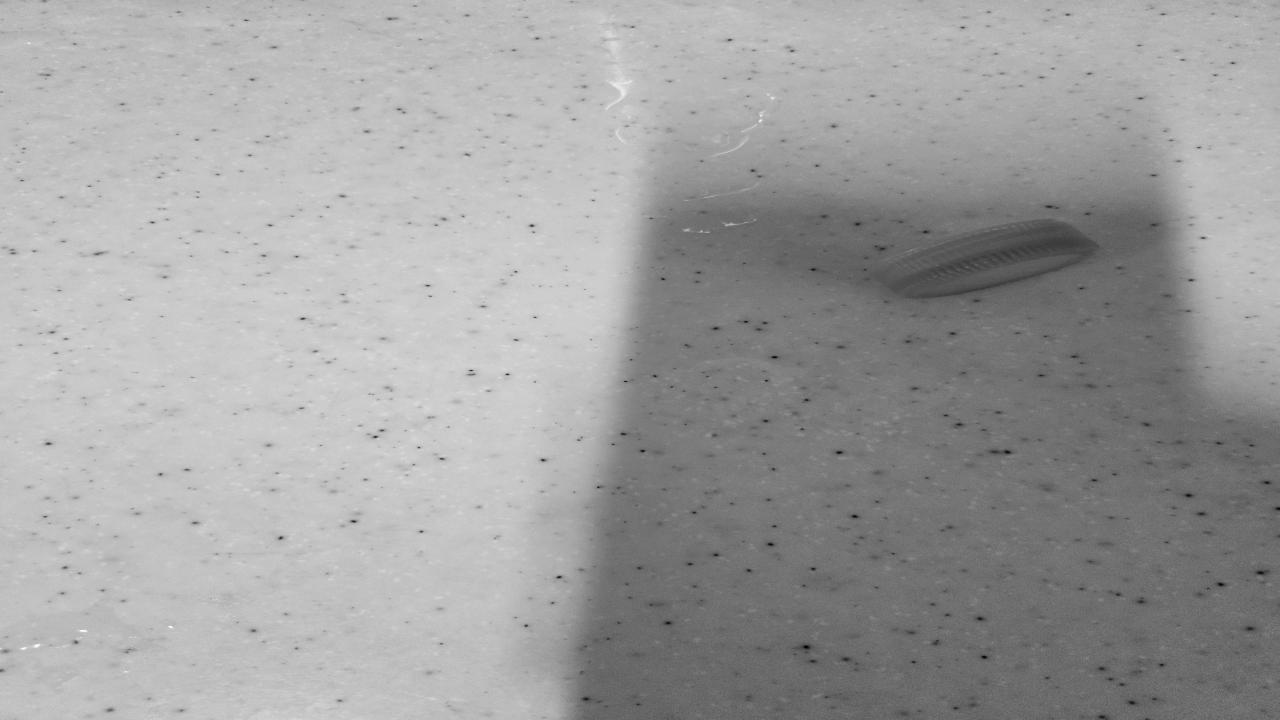bottle_cap: (879, 220, 1077, 289)
